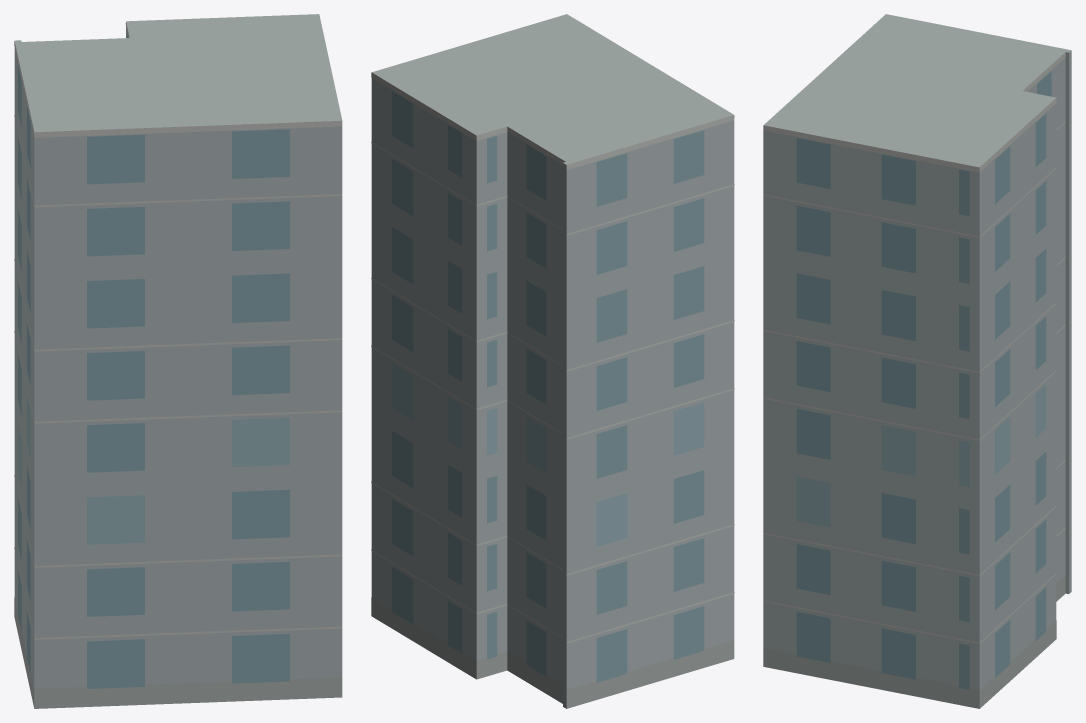
File: survey-upis-32632945.glb
3 renders of one model, left to right at view 1: azimuth 30°, elevation 25°; view 2: azimuth 150°, elevation 25°; view 3: azimuth 270°, elevation 25°, orthographic. The views are drawn at different scales.
Parts seen in each view (by area): view 1: survey-upis-32632945.tmp; view 2: survey-upis-32632945.tmp; view 3: survey-upis-32632945.tmp.
Part boxes in pixels (x1=…): survey-upis-32632945.tmp: x1=14, y1=14, x2=342, y2=708; survey-upis-32632945.tmp: x1=371, y1=14, x2=734, y2=708; survey-upis-32632945.tmp: x1=763, y1=14, x2=1071, y2=708.
Bounding box in the file's own units: 15.12 × 24.85 × 12.84.
